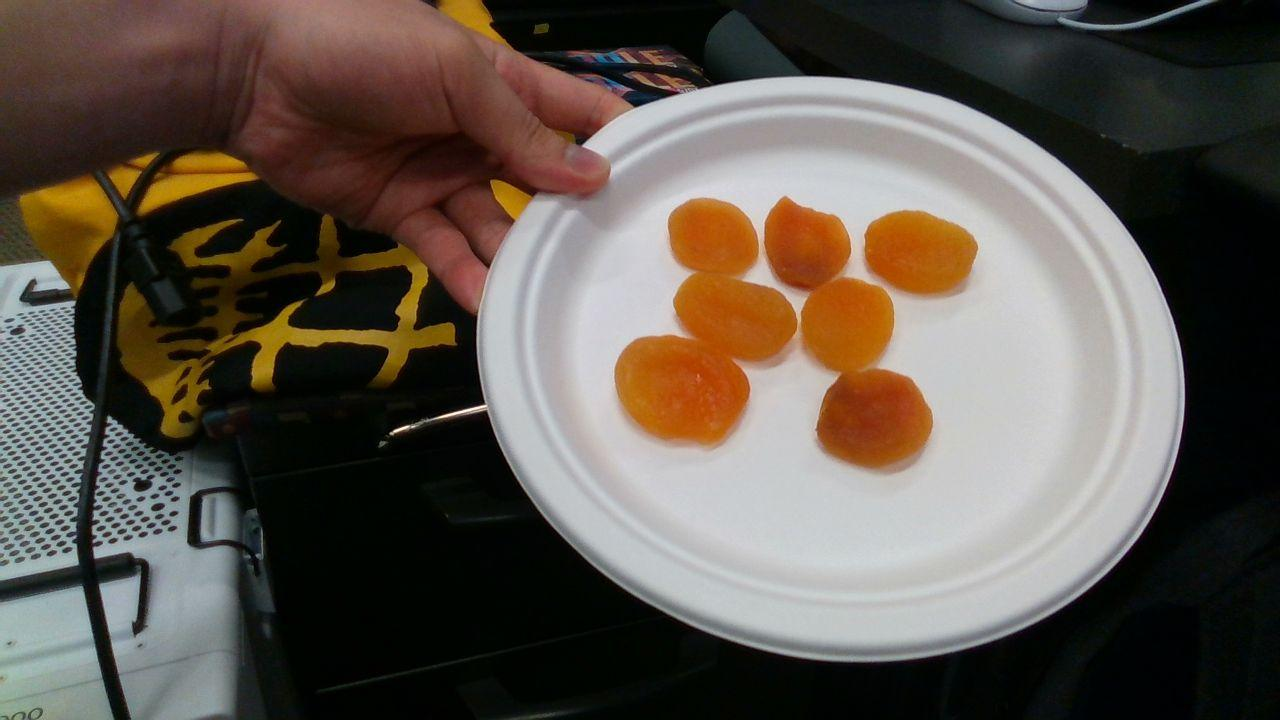apricot: (616, 335, 750, 442), (816, 370, 933, 467), (673, 271, 798, 361), (799, 279, 894, 371), (868, 211, 977, 291), (765, 198, 852, 288), (671, 200, 759, 274)
